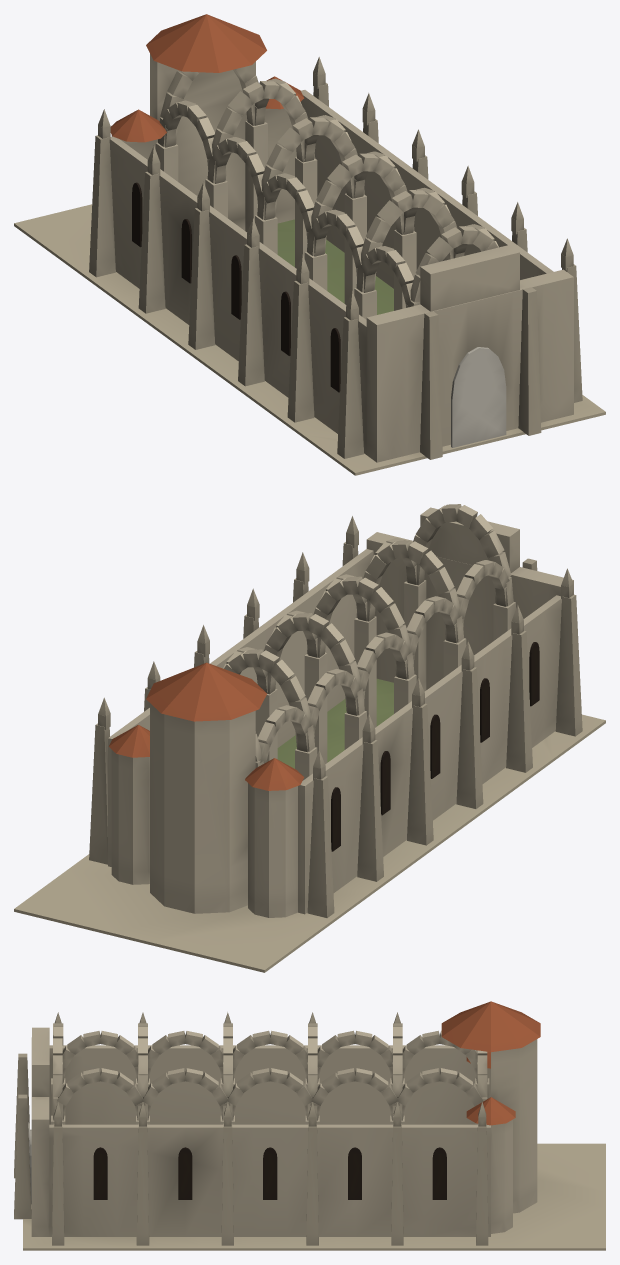
File: carmo-ruin.glb
The picture shows the model from 3 angles, top to bottom: view 1: azimuth 30°, elevation 25°; view 2: azimuth 150°, elevation 25°; view 3: azimuth 270°, elevation 25°; orthographic projection. The views are drawn at different scales.
Visible parts, largest first — view 1: p1_ruined nave, p2_front and apse, p0_ground; view 2: p1_ruined nave, p2_front and apse, p0_ground; view 3: p1_ruined nave, p2_front and apse, p0_ground.
Part boxes in pixels (x1=…): p1_ruined nave: x1=89, y1=57, x2=582, y2=458; p2_front and apse: x1=110, y1=14, x2=573, y2=462; p0_ground: x1=14, y1=204, x2=605, y2=475; p1_ruined nave: x1=89, y1=504, x2=582, y2=917; p2_front and apse: x1=109, y1=507, x2=573, y2=917; p0_ground: x1=14, y1=714, x2=605, y2=972; p1_ruined nave: x1=49, y1=1012, x2=490, y2=1245; p2_front and apse: x1=14, y1=1001, x2=540, y2=1236; p0_ground: x1=23, y1=1143, x2=605, y2=1250.
Bounding box in the file's own units: 28 × 24.6 × 67.
